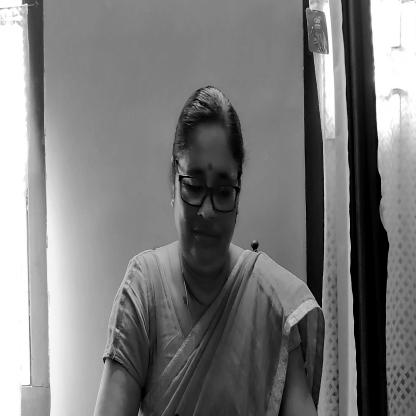Normal: (177, 92, 242, 272)
